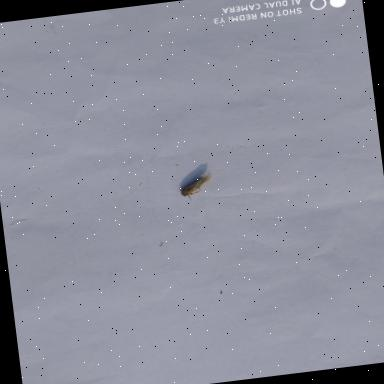pbw: (175, 169, 219, 203)
